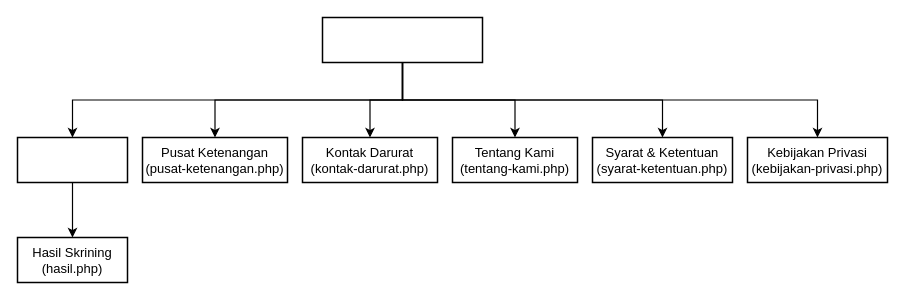
Some shapes in this 906 by 301 pixel diagram are drawn without their labels. The shapes that lost their labels are listed below. From the top down, each one's centre as x and y in pixels, then its label:
the point at 402,39: Beranda (home.php)
the point at 72,159: Tes Mandiri (tes.php)
